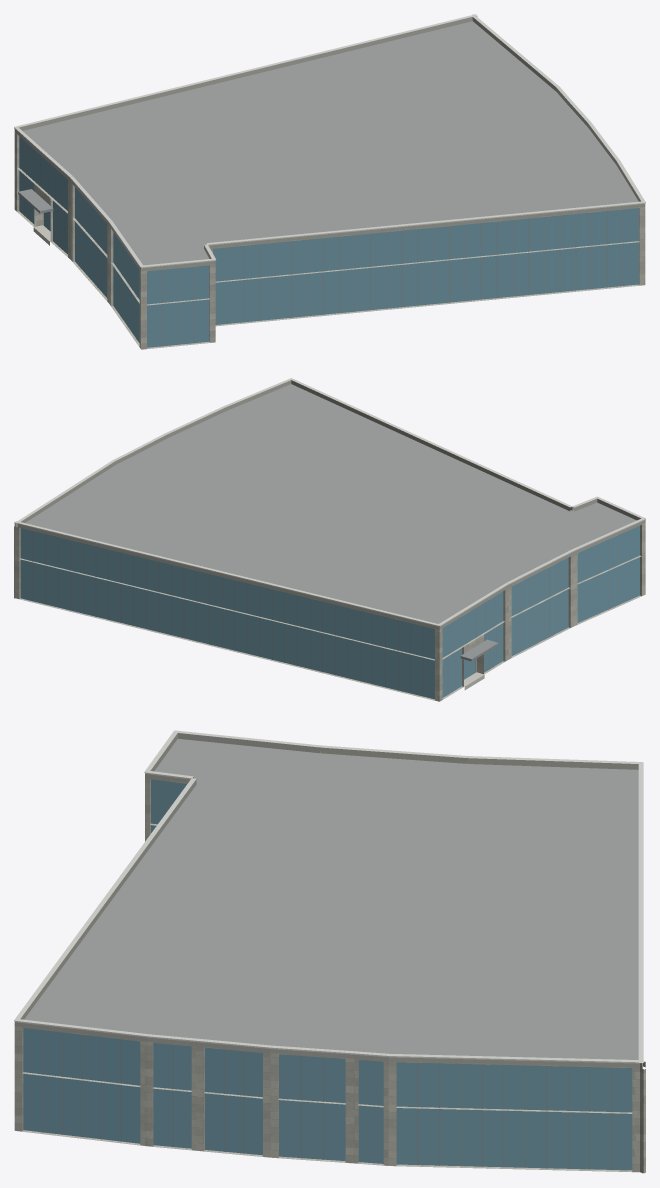
3 renders of one model, top to bottom at view 1: azimuth 30°, elevation 25°; view 2: azimuth 150°, elevation 25°; view 3: azimuth 270°, elevation 25°, orthographic. The views are drawn at different scales.
Parts seen in each view (by area): view 1: unist-batch-osm480637369__parapet, osm480637369__glass, osm480637369__wall, osm480637369__trim, osm480637369__frame; view 2: unist-batch-osm480637369__parapet, osm480637369__glass, osm480637369__wall, osm480637369__frame, osm480637369__trim; view 3: unist-batch-osm480637369__parapet, osm480637369__glass, osm480637369__wall, osm480637369__trim, osm480637369__frame.
Part boxes in pixels (box(x1,y1,x2,y2)): unist-batch-osm480637369__parapet: box(14, 16, 645, 349); osm480637369__glass: box(19, 136, 638, 347); osm480637369__wall: box(14, 132, 645, 349); osm480637369__trim: box(14, 14, 645, 268); osm480637369__frame: box(24, 142, 623, 346); unist-batch-osm480637369__parapet: box(14, 380, 645, 701); osm480637369__glass: box(20, 525, 639, 699); osm480637369__wall: box(14, 522, 645, 701); osm480637369__frame: box(32, 530, 629, 696); osm480637369__trim: box(14, 378, 645, 626); unist-batch-osm480637369__parapet: box(14, 733, 645, 1173); osm480637369__glass: box(23, 779, 632, 1170); osm480637369__wall: box(14, 778, 645, 1173); osm480637369__trim: box(14, 730, 645, 1064); osm480637369__frame: box(42, 781, 611, 1169).
Bounding box in the file's own units: 55.4 × 8.95 × 44.45.
Materials: 7 (1 with a texture image).
